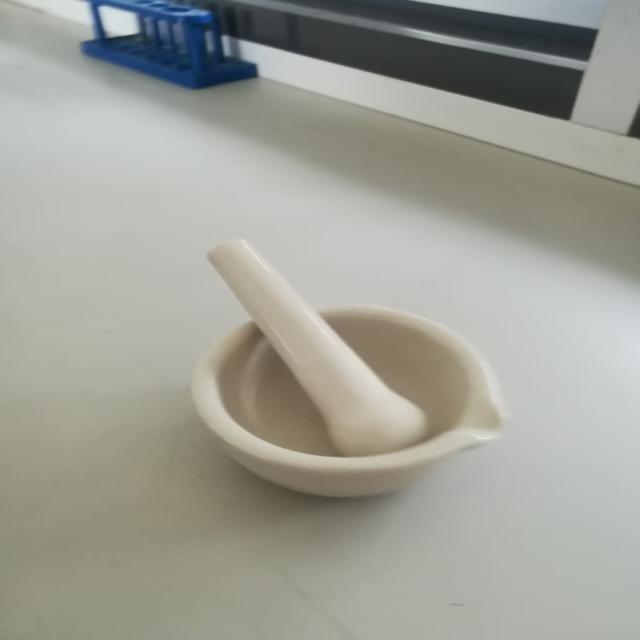Porcelain_Mortar Pestle: (153, 191, 547, 525)
